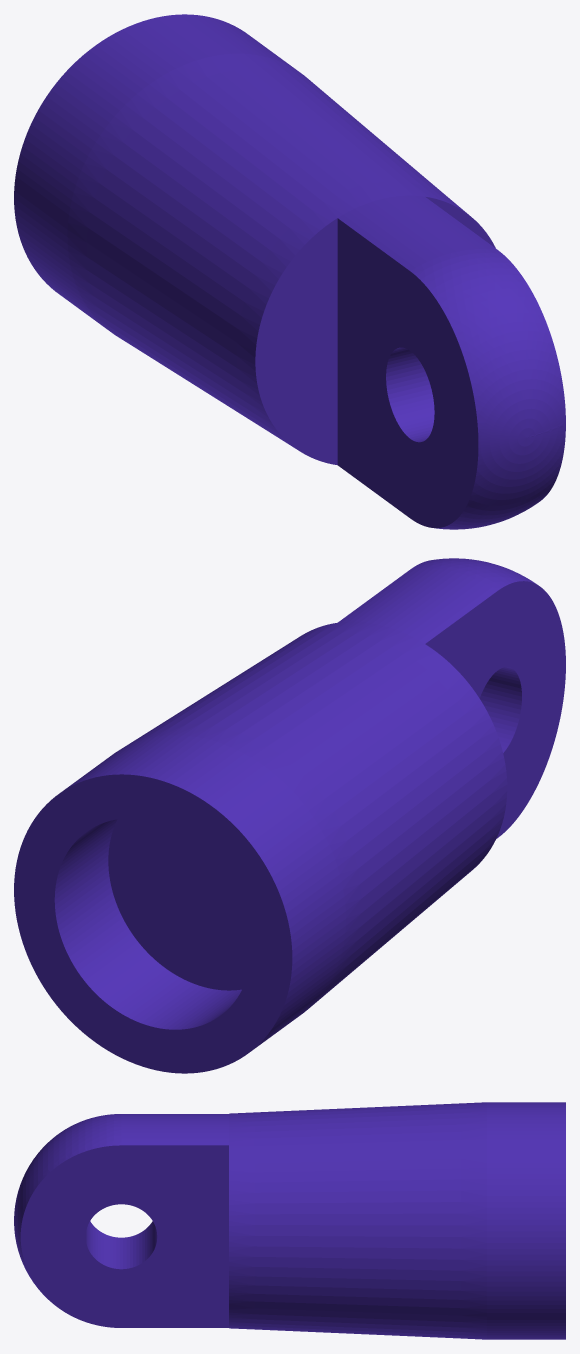
3 renders of one model, top to bottom at view 1: azimuth 30°, elevation 25°; view 2: azimuth 150°, elevation 25°; view 3: azimuth 270°, elevation 25°, orthographic. The views are drawn at different scales.
Parts seen in each view (by area): view 1: node; view 2: node; view 3: node.
Boxes of the visible parts, box(x1,y1,x2,y2) form: node: box(14, 14, 565, 529); node: box(14, 558, 565, 1073); node: box(14, 1102, 565, 1339).
Bounding box in the file's own units: 0.069 × 0.069 × 0.1605.
